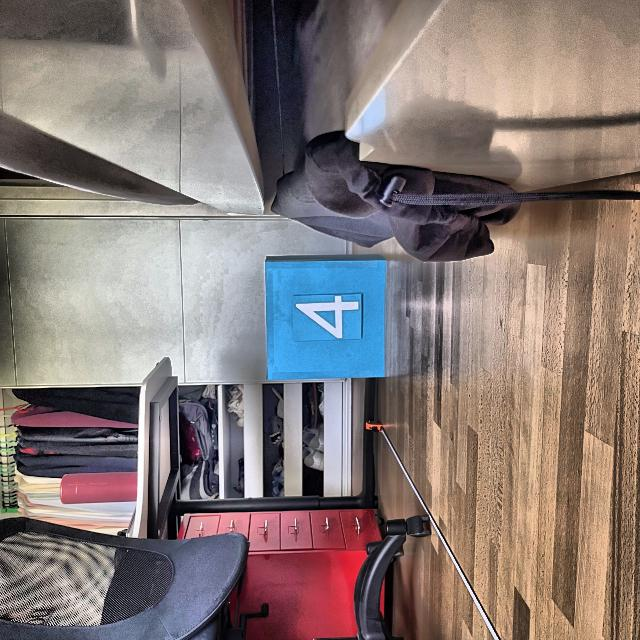blue box: (264, 252, 390, 384)
four: (292, 293, 361, 340)
